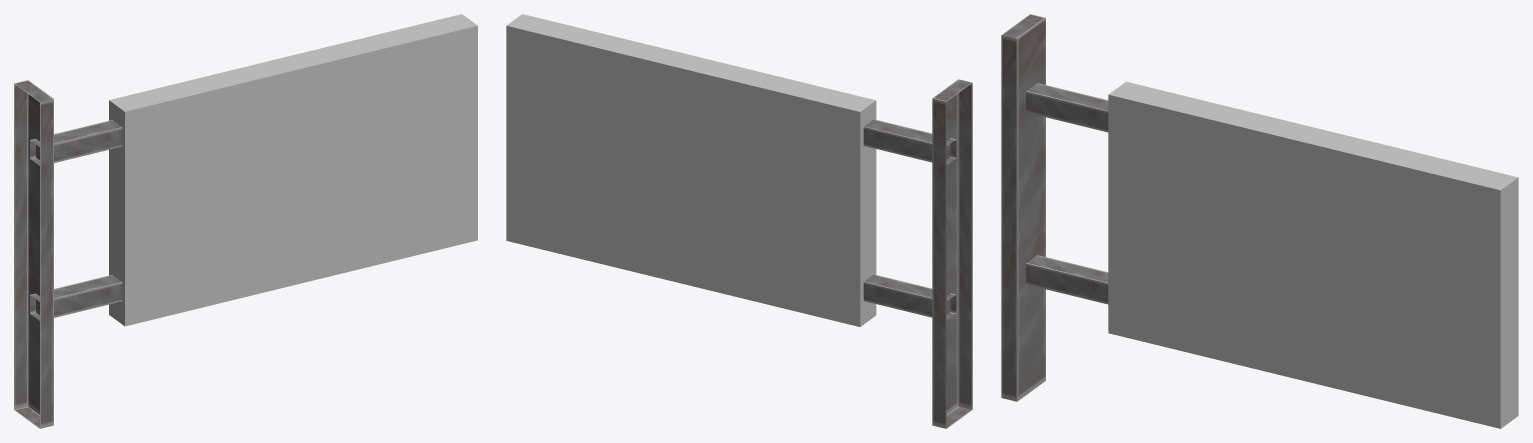
Rendered from jiedao_BJ_032.fbx.
The picture shows the model from 3 angles, left to right: view 1: azimuth 30°, elevation 25°; view 2: azimuth 150°, elevation 25°; view 3: azimuth 330°, elevation 25°; orthographic projection. The views are drawn at different scales.
Parts seen in each view (by area): view 1: BJ032; view 2: BJ032; view 3: BJ032.
Part boxes in pixels (left/top/right/bottom): BJ032: left=14, top=14, right=477, bottom=428; BJ032: left=506, top=14, right=972, bottom=428; BJ032: left=1001, top=14, right=1518, bottom=428.
Size of the model in its own units: 129 by 13.04 by 90.52.
